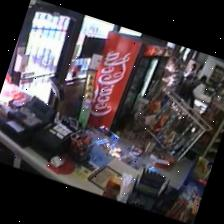person: (179, 75, 205, 107), (183, 64, 195, 80)
